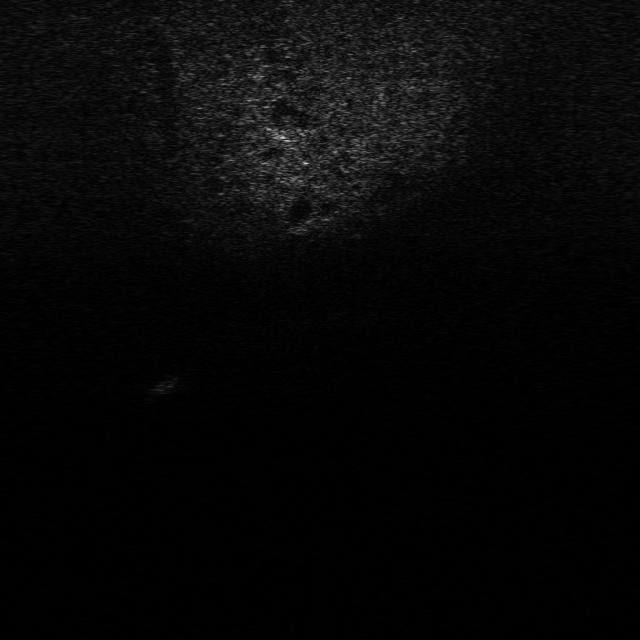cylinder: (148, 374, 178, 408)
